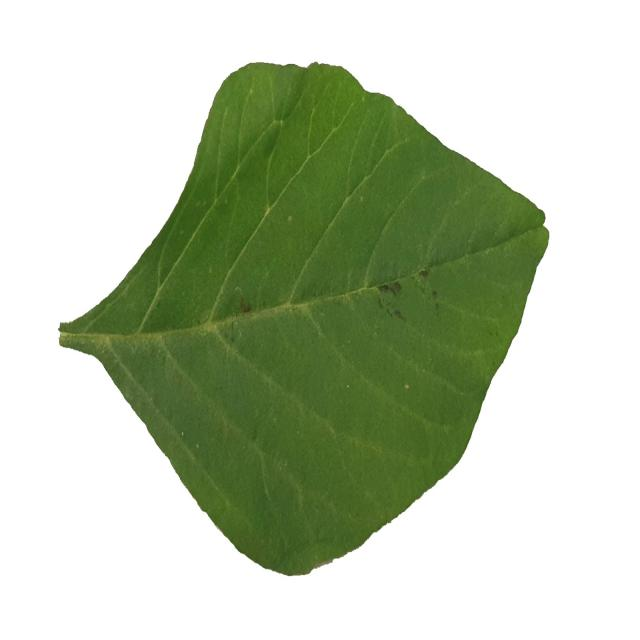Medicinal-Arive Dantu: (60, 55, 551, 577)
